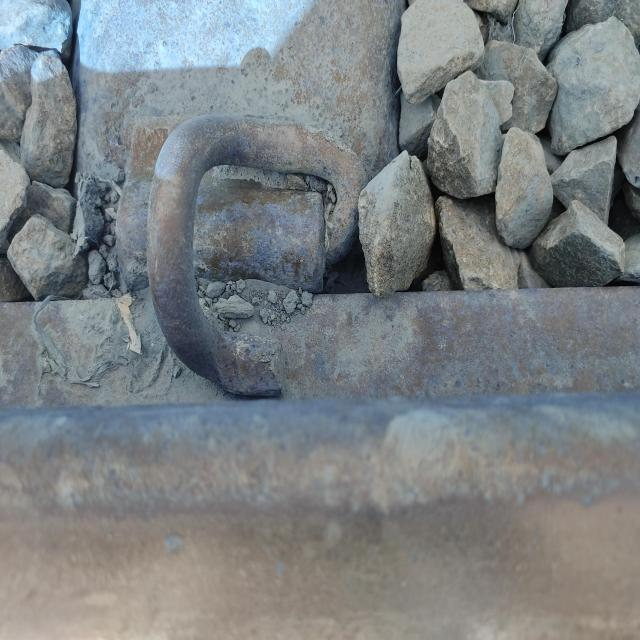Good Fasteners: (82, 100, 386, 418)
